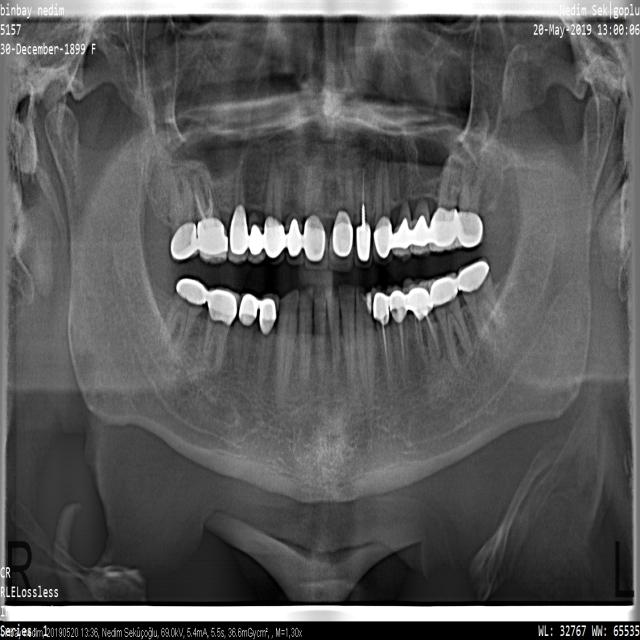Canine: (275, 290, 298, 403), (356, 289, 375, 410), (373, 138, 391, 264), (265, 156, 284, 264)
Incisores: (329, 132, 353, 271), (305, 145, 328, 270), (286, 159, 303, 264), (356, 148, 371, 267), (299, 288, 313, 403), (339, 285, 355, 383), (325, 287, 340, 374), (314, 288, 325, 384)
Premolars: (228, 141, 255, 263), (369, 288, 393, 395), (410, 155, 434, 254), (392, 155, 413, 261), (388, 286, 408, 391), (257, 294, 278, 393), (247, 154, 265, 264), (236, 294, 255, 388)
molars: (428, 274, 473, 372), (459, 258, 507, 344), (200, 289, 239, 377), (161, 279, 206, 354), (403, 278, 441, 365), (194, 166, 227, 264), (429, 158, 463, 251), (168, 166, 198, 259), (455, 152, 484, 248)
